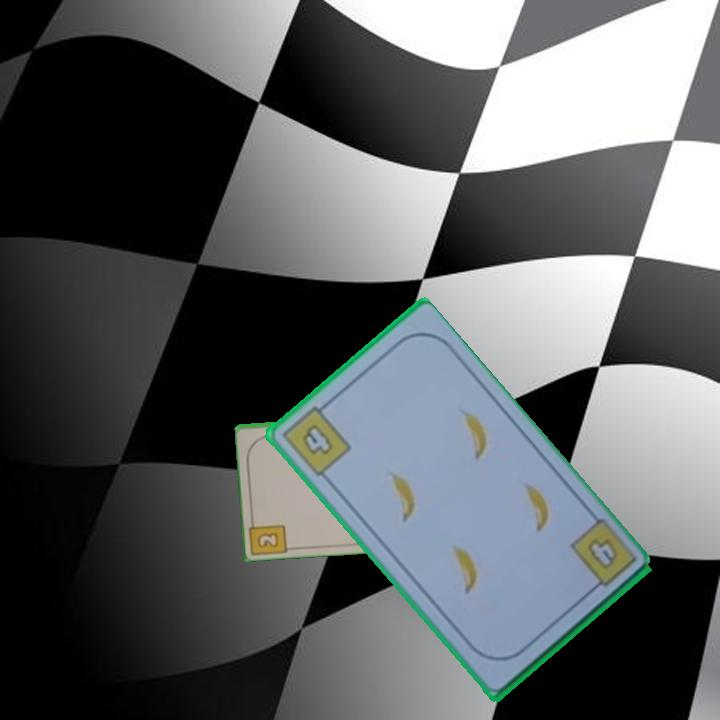2b: (248, 512, 292, 556)
4b: (278, 398, 354, 480), (583, 534, 621, 573)
